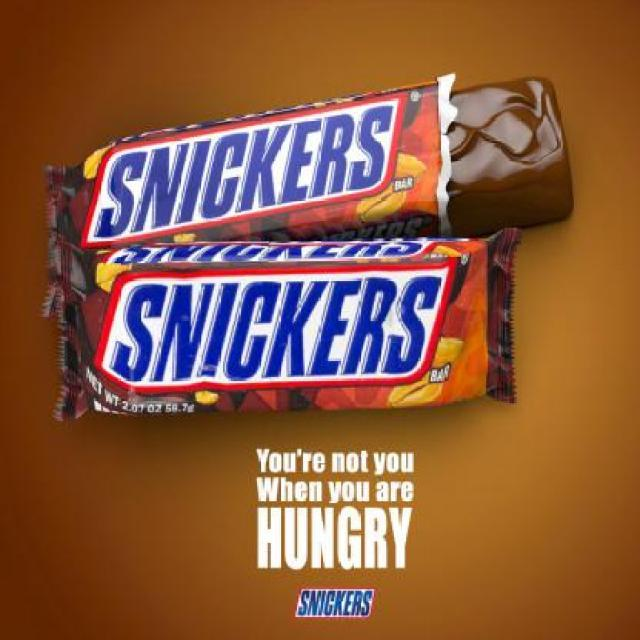Chocolate bar: (49, 234, 520, 430)
